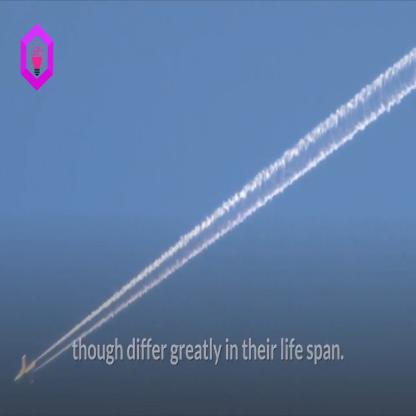plane: (12, 352, 39, 390)
